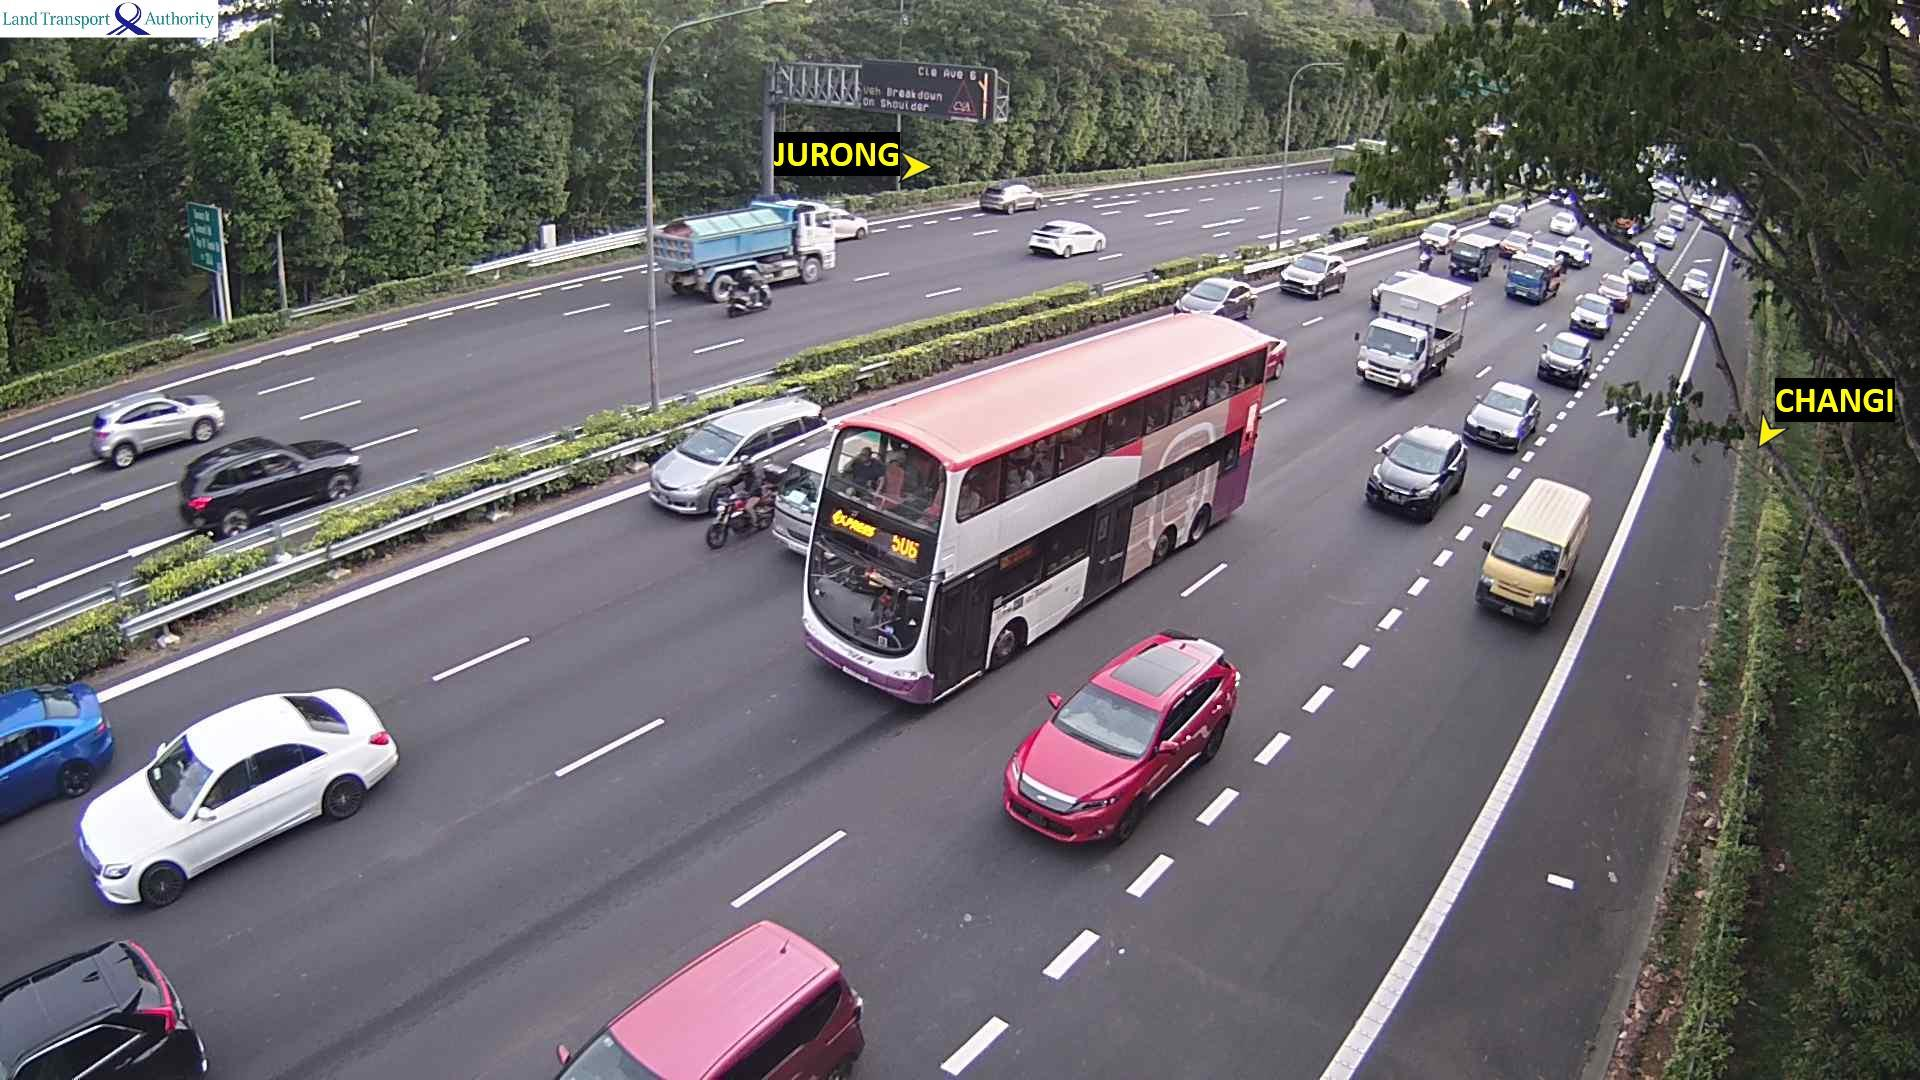incoming: (803, 417, 932, 702), (1019, 674, 1180, 858), (66, 746, 220, 910), (1480, 524, 1567, 629), (1375, 438, 1456, 526), (658, 421, 729, 518), (1357, 320, 1424, 396), (773, 460, 818, 554), (1468, 388, 1531, 450), (1542, 336, 1592, 389), (1280, 253, 1328, 299), (1507, 258, 1547, 303), (1178, 282, 1232, 314), (705, 495, 735, 550), (1572, 297, 1613, 335), (1451, 241, 1482, 277), (1598, 278, 1629, 310), (1420, 222, 1448, 251), (1685, 270, 1709, 297), (1487, 204, 1515, 225), (1549, 215, 1576, 236), (1502, 236, 1531, 255)
